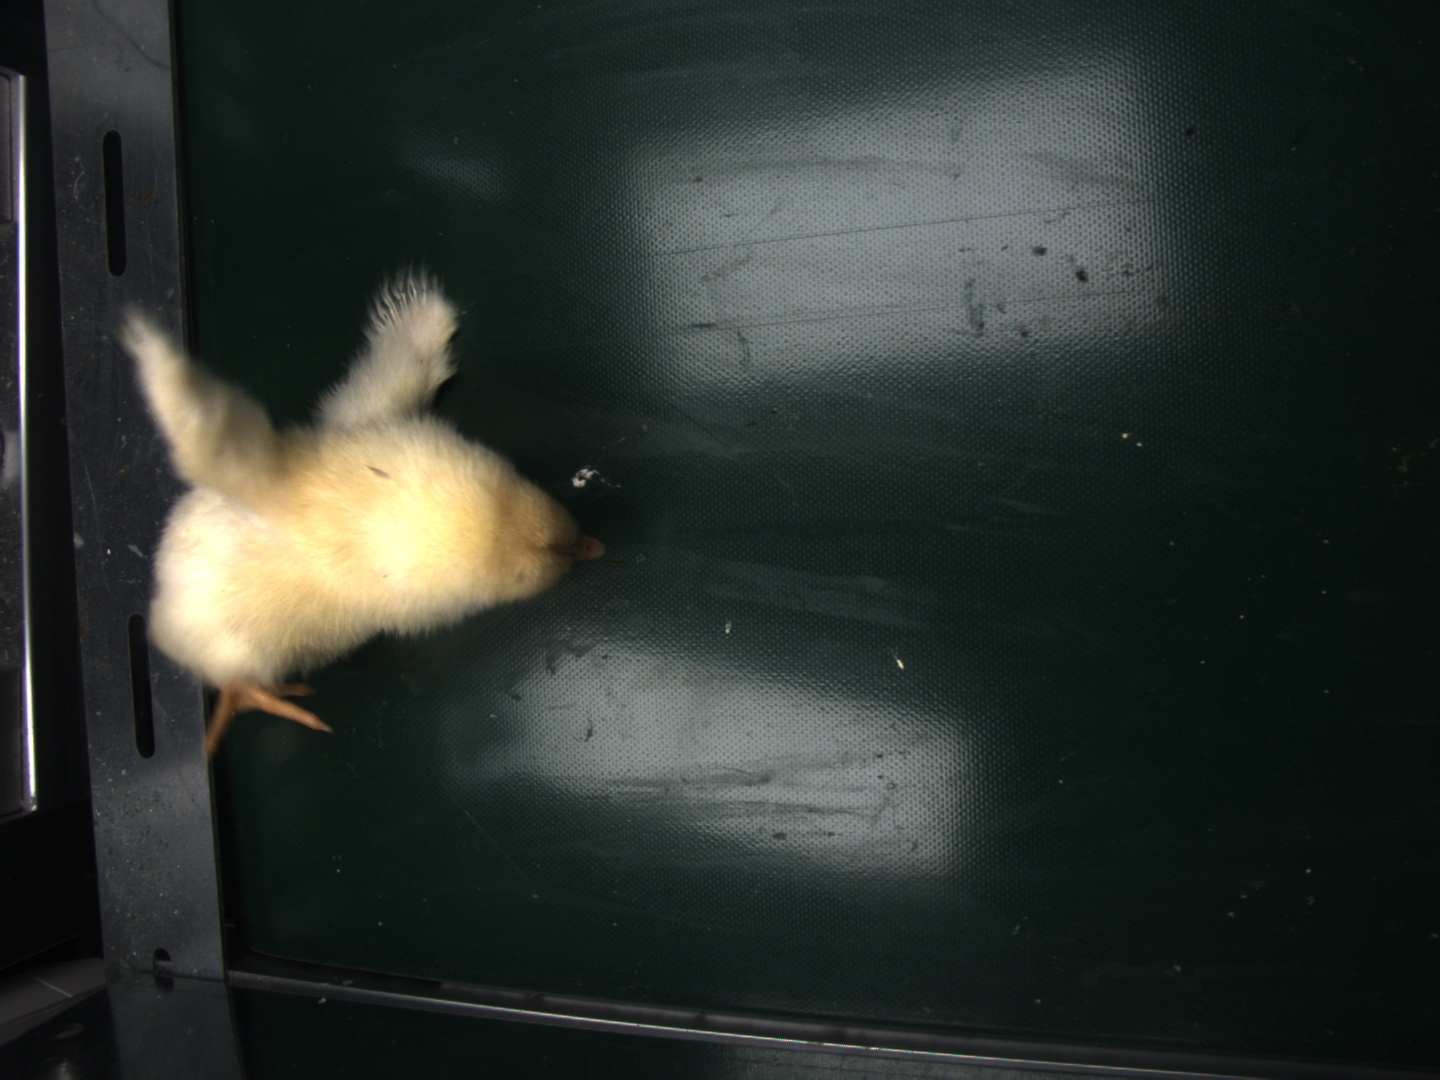male: (374, 284, 427, 334)
